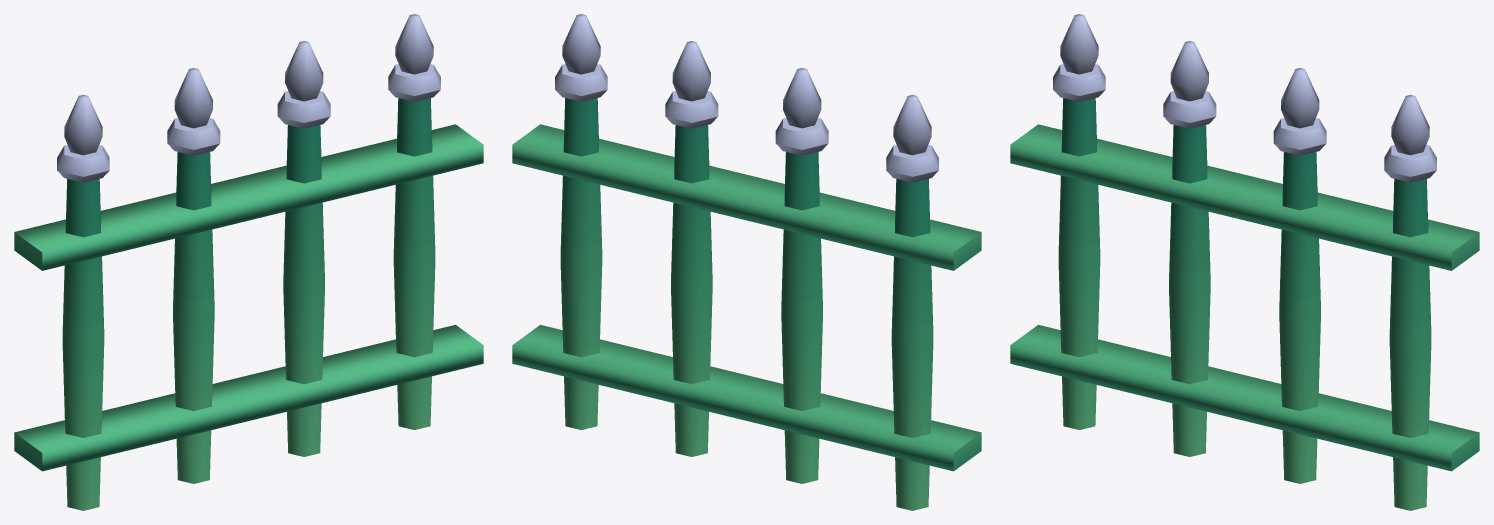
The model's file is k-graveyard-iron-fence.glb.
The picture shows the model from 3 angles, left to right: view 1: azimuth 30°, elevation 25°; view 2: azimuth 150°, elevation 25°; view 3: azimuth 330°, elevation 25°; orthographic projection.
Parts seen in each view (by area): view 1: iron-fence; view 2: iron-fence; view 3: iron-fence.
Part boxes in pixels (x1,y1,x2,y2): iron-fence: (14,14,483,510); iron-fence: (512,14,981,510); iron-fence: (1010,14,1479,510).
Bounding box in the file's own units: 1 × 0.8789 × 0.11.
1 material, 1 textured.
